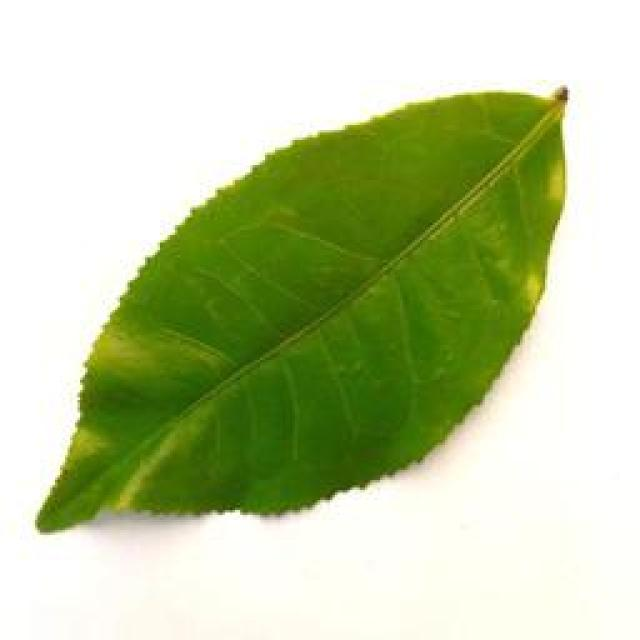Healthy: (28, 76, 596, 561)
